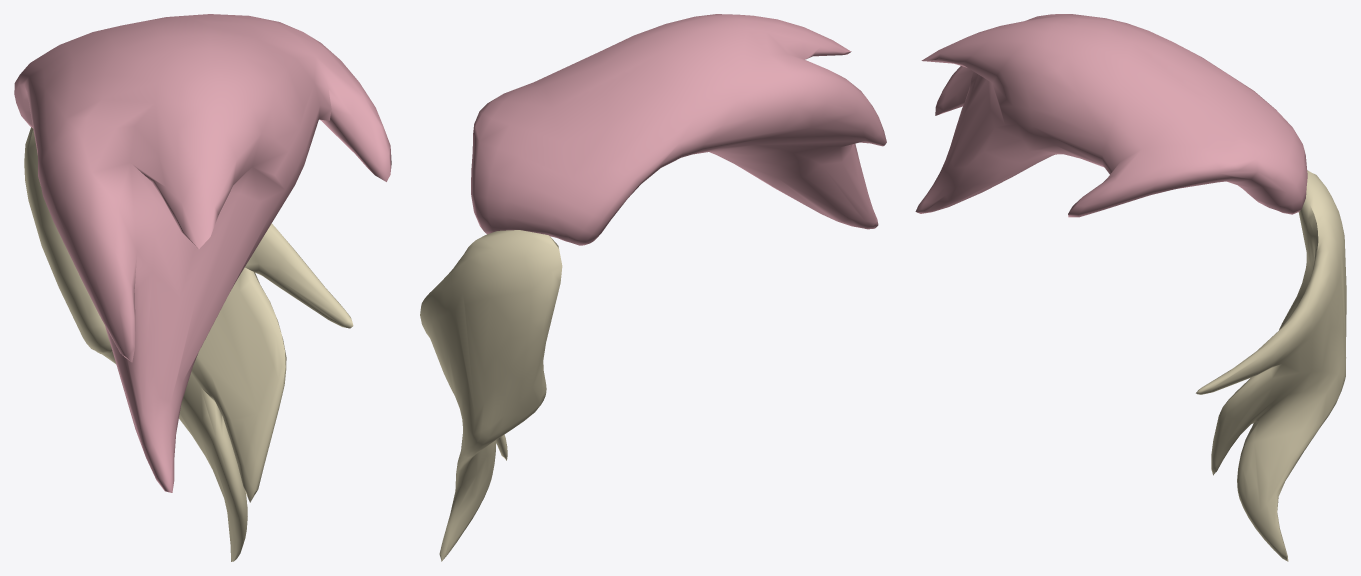
File: Mane_12.fbx
The picture shows the model from 3 angles, left to right: view 1: azimuth 30°, elevation 25°; view 2: azimuth 150°, elevation 25°; view 3: azimuth 270°, elevation 25°; orthographic projection. The views are drawn at different scales.
Parts seen in each view (by area): view 1: Mane_12; view 2: Mane_12; view 3: Mane_12.
Part boxes in pixels (<box>): Mane_12: <box>14,14,391,561</box>; Mane_12: <box>420,14,886,561</box>; Mane_12: <box>915,14,1346,561</box>.
Size of the model in its own units: 161 by 244 by 205.
